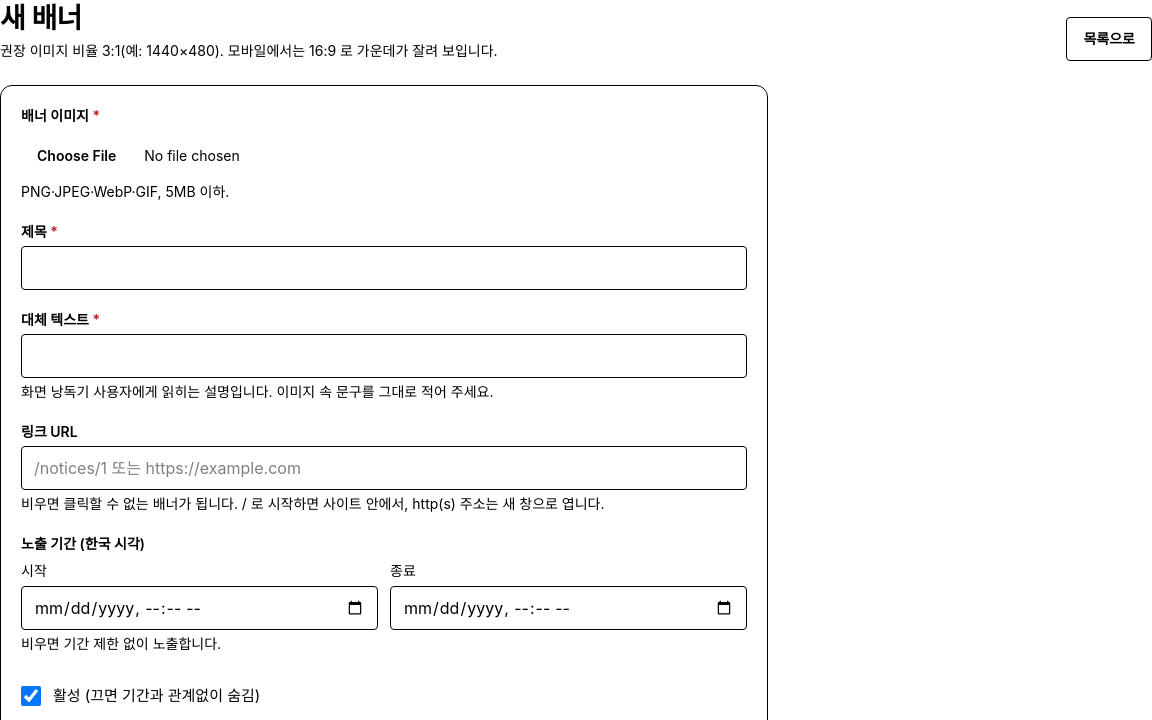
it: BannerForm › 필수값이 비면 액션을 부르지 않고 오류를 보여 준다
The width and height of the screenshot is (1152, 720).
In the field labelled "링크 URL": (384, 468) x1=21 y1=446 x2=747 y2=490, type "//evil.example"
(page scrolled)
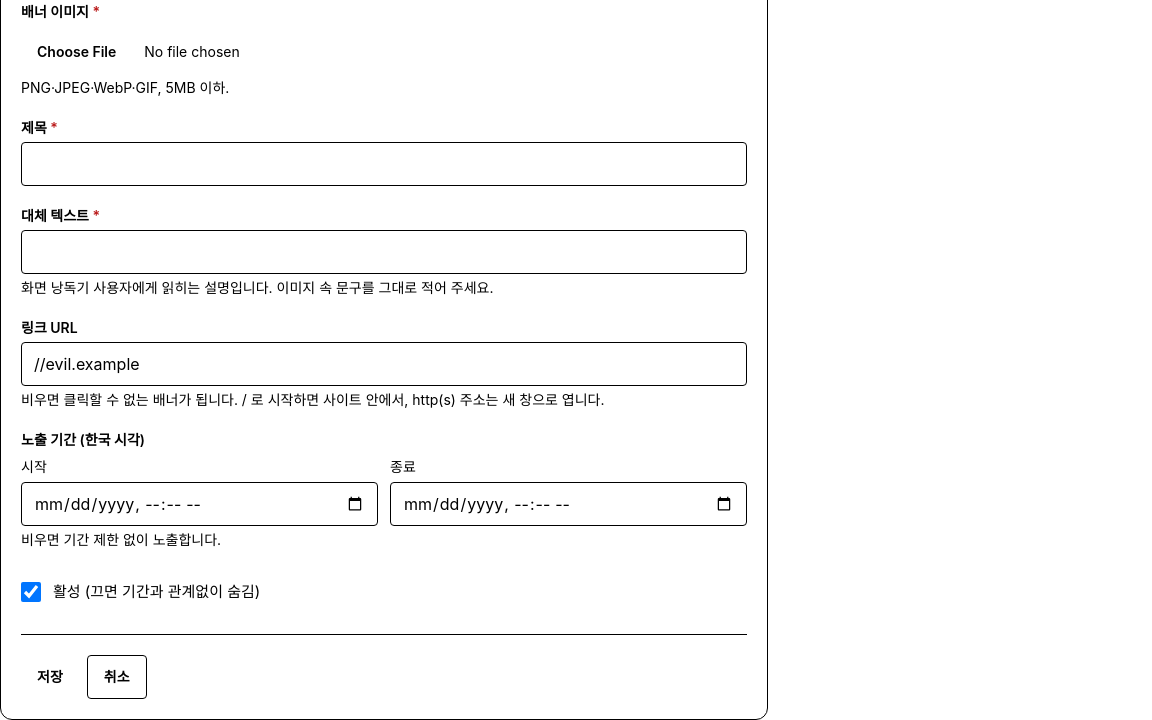
Click the button "저장": (50, 677) x1=21 y1=655 x2=79 y2=699
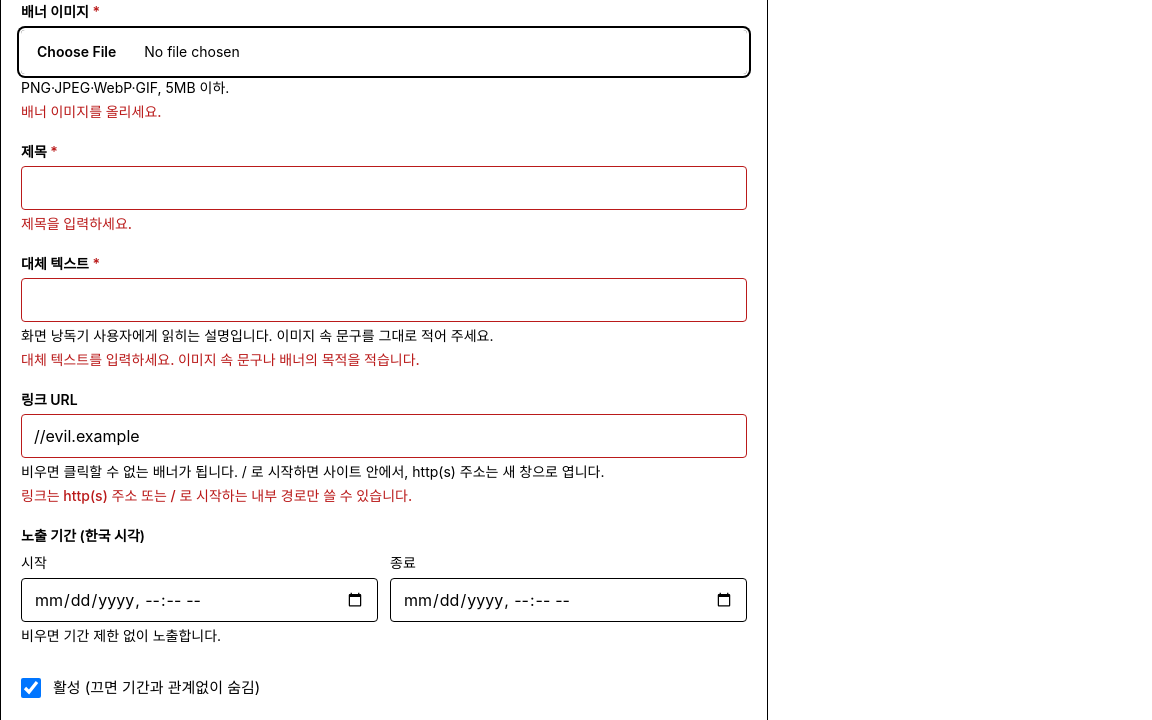
Check: the text "배너 이미지를 올리세요." is shown, box x1=21 y1=103 x2=162 y2=120
Check: the text "제목을 입력하세요." is shown, box x1=21 y1=215 x2=132 y2=232
Check: the text "대체 텍스트를 입력하세요. 이미지 속 문구나 배너의 목적을 적습니다." is shown, box x1=21 y1=351 x2=420 y2=368
